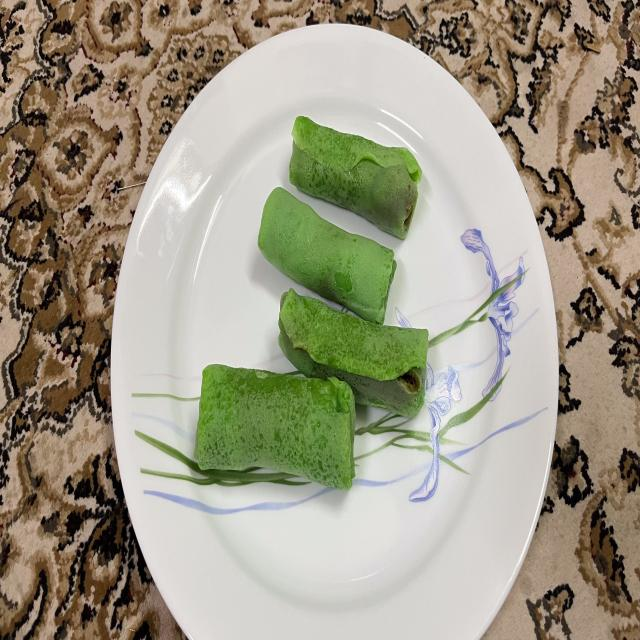Kuih-Ketayap: (195, 364, 355, 489), (279, 289, 429, 418), (258, 187, 396, 324), (290, 116, 421, 238)
